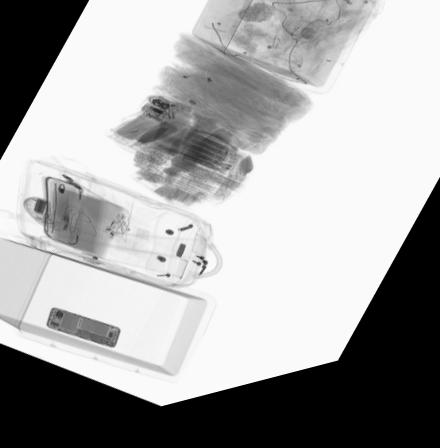Lighter: (178, 81, 214, 95)
